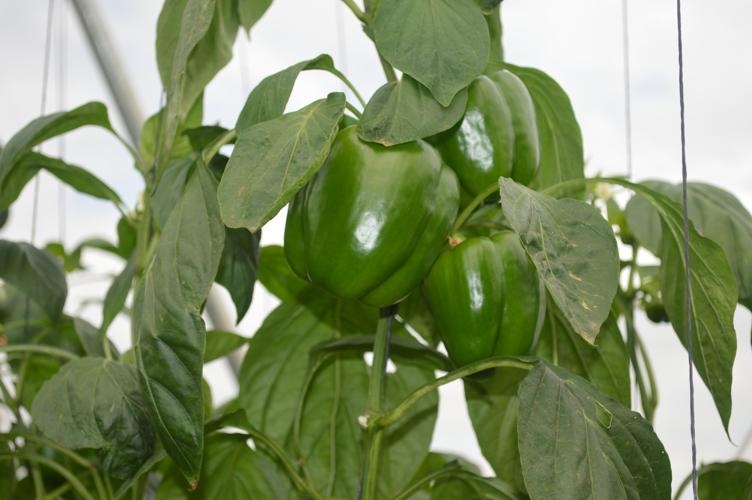BellPepper: (279, 129, 451, 307), (422, 231, 540, 363), (446, 70, 535, 194)
